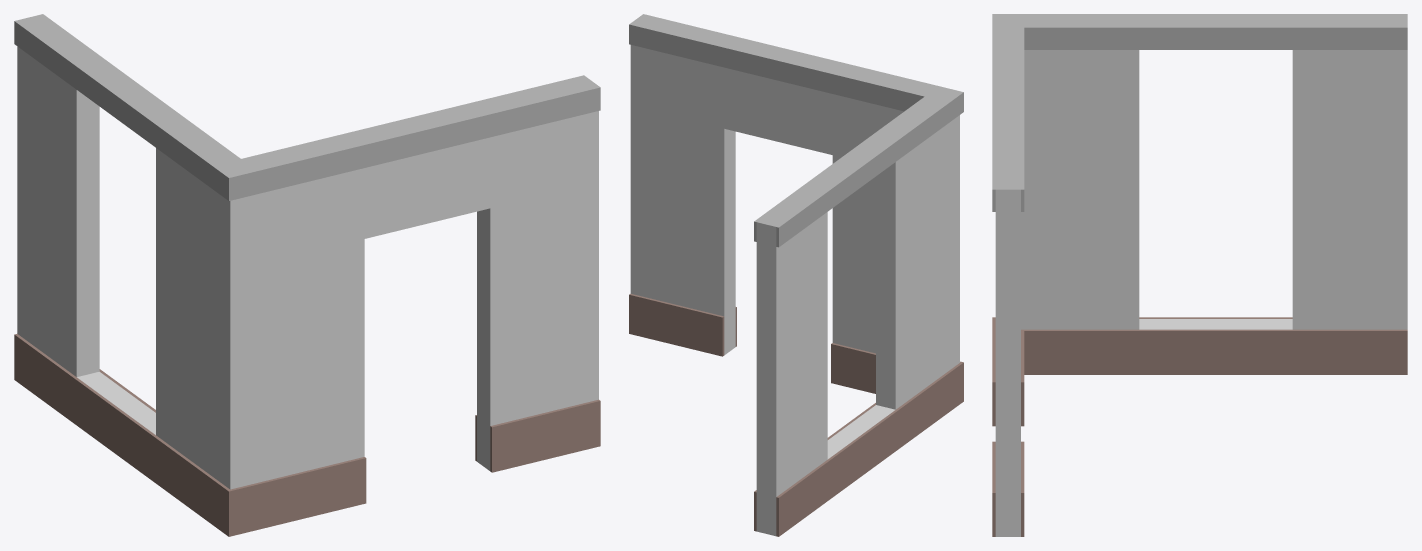
The model's file is Wall02-06.fbx.
The picture shows the model from 3 angles, left to right: view 1: azimuth 30°, elevation 25°; view 2: azimuth 150°, elevation 25°; view 3: azimuth 270°, elevation 25°; orthographic projection. The views are drawn at different scales.
Visible parts, largest first — view 1: Wall02-06; view 2: Wall02-06; view 3: Wall02-06.
Boxes of the visible parts, x1=… form: Wall02-06: x1=14, y1=14, x2=600, y2=536; Wall02-06: x1=629, y1=14, x2=963, y2=536; Wall02-06: x1=992, y1=14, x2=1407, y2=536.
Bounding box in the file's own units: 3.25 × 3.25 × 3.
